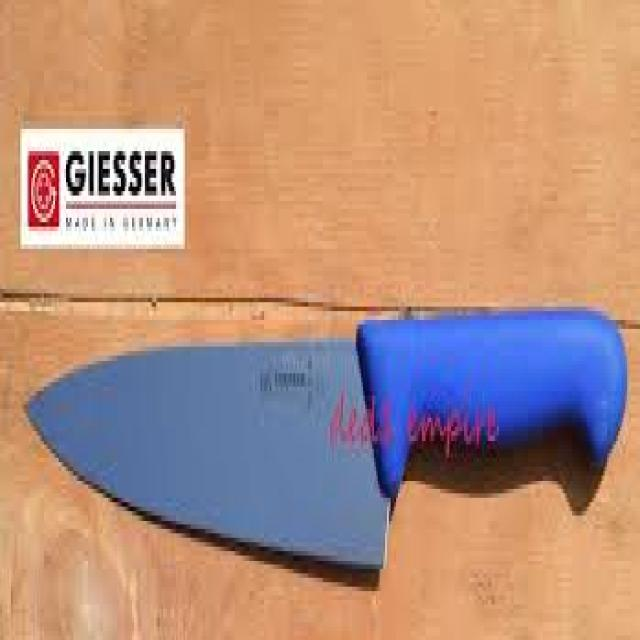Knife: (26, 307, 625, 569)
